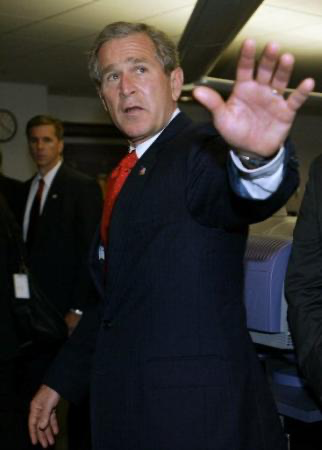Face: (96, 38, 173, 135), (27, 125, 66, 172)
